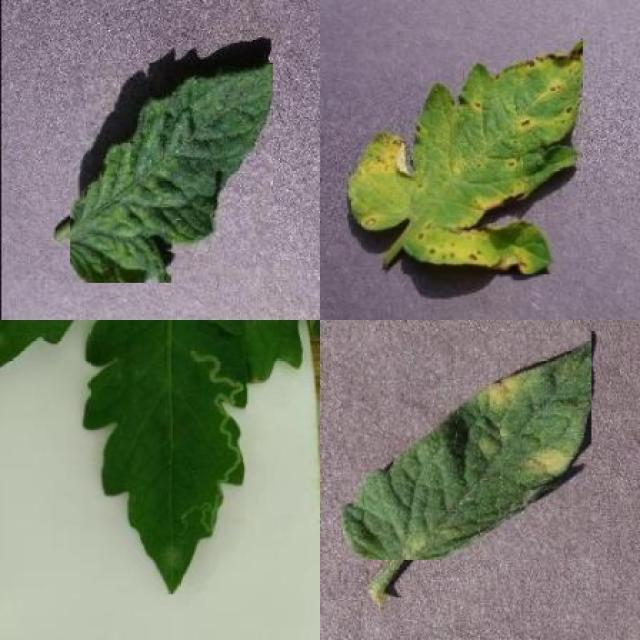Leaf Miner: (81, 320, 246, 594)
Leaf Mold: (342, 332, 592, 561)
Mosaic Virus: (70, 63, 273, 283)
Septoria: (348, 40, 583, 274)
